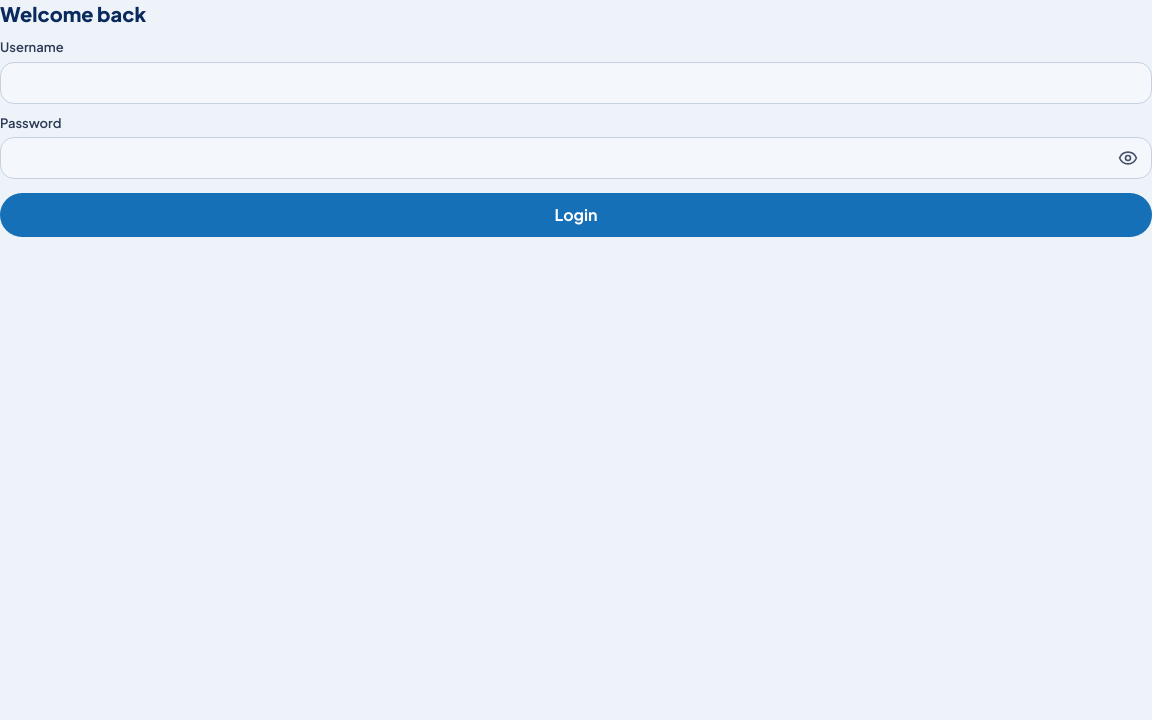
Test: LoginPage › asks for both fields before it tries to sign in
Click the button "Login" at (576, 215), box left=0, top=193, right=1151, bottom=237
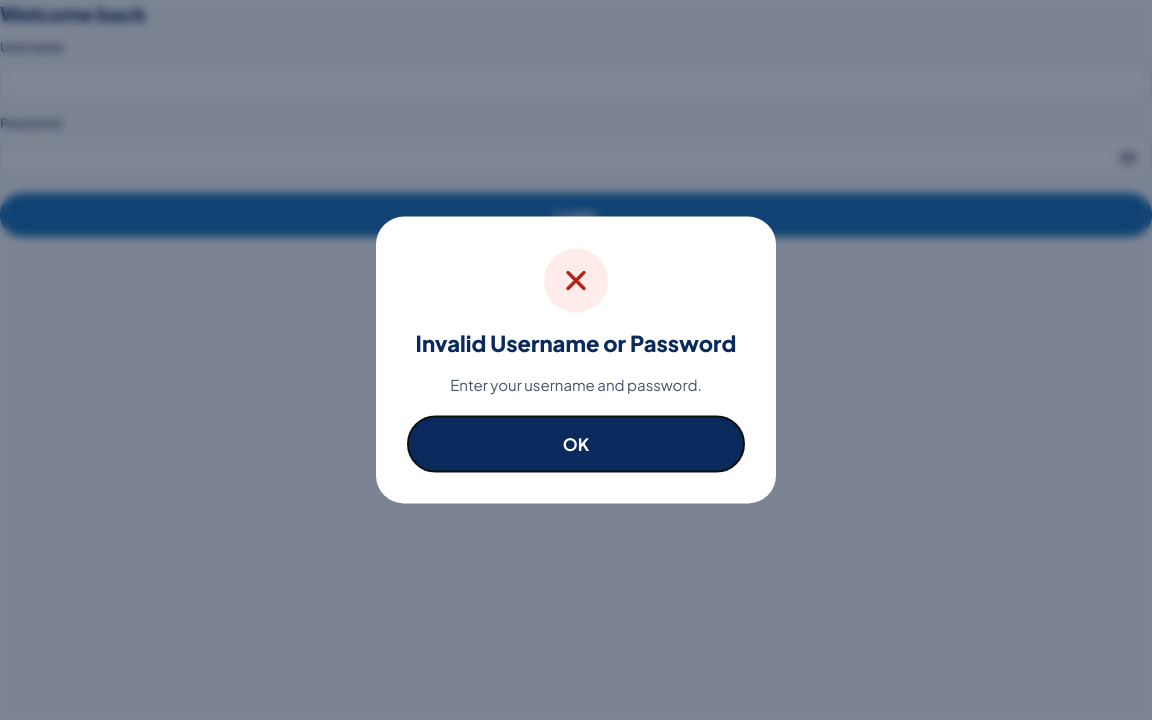
Expected: the dialog shows "Invalid Username or Password", left=416, top=328, right=736, bottom=356
